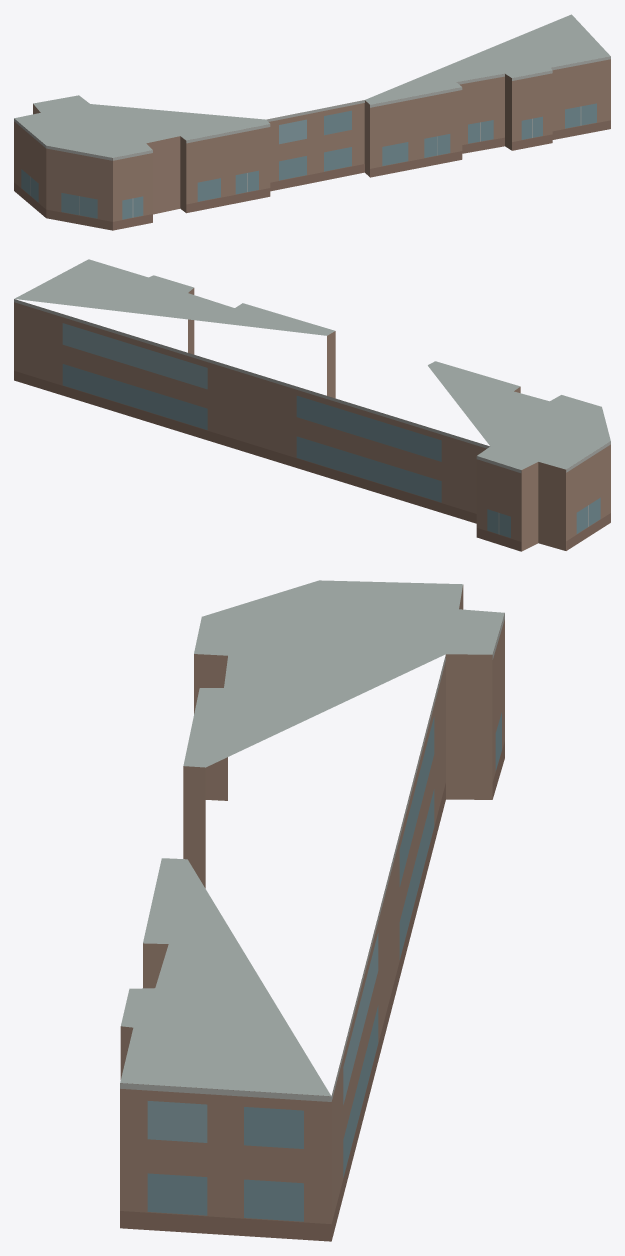
Rendered from survey-upis-32595872.glb.
3 renders of one model, top to bottom at view 1: azimuth 30°, elevation 25°; view 2: azimuth 150°, elevation 25°; view 3: azimuth 270°, elevation 25°, orthographic. The views are drawn at different scales.
Visible parts, largest first — view 1: survey-upis-32595872.tmp; view 2: survey-upis-32595872.tmp; view 3: survey-upis-32595872.tmp.
Boxes of the visible parts, x1,y1,x2,y2 form: survey-upis-32595872.tmp: (14, 14, 610, 230); survey-upis-32595872.tmp: (14, 259, 610, 551); survey-upis-32595872.tmp: (120, 580, 504, 1241).
Bounding box in the file's own units: 46.46 × 6.1 × 14.65.
